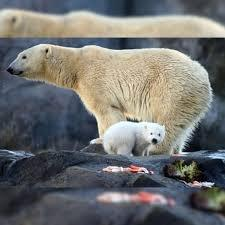bear: (3, 40, 218, 166), (99, 117, 175, 171)
